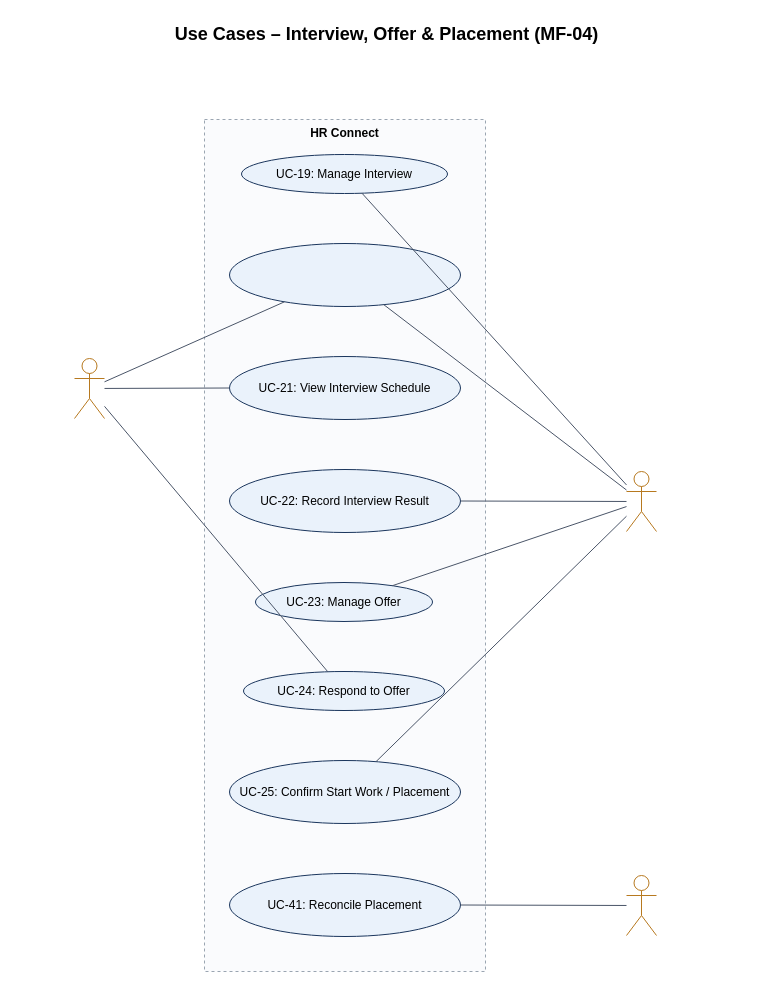
The diagram is 772 pixels wide and 989 high, and some of its shapes have lost their labels. The centre of each missing label's shape, as x and y in pixels:
"Candidate" goes at point (89, 388).
"Client Company User" goes at point (641, 501).
"Internal HR" goes at point (641, 905).
"UC-20: Participate in Interview" goes at point (344, 274).
